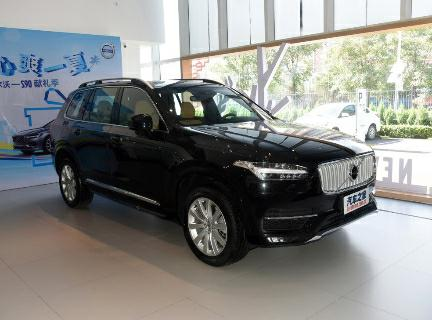沃尔沃-XC90: (43, 69, 388, 278)
